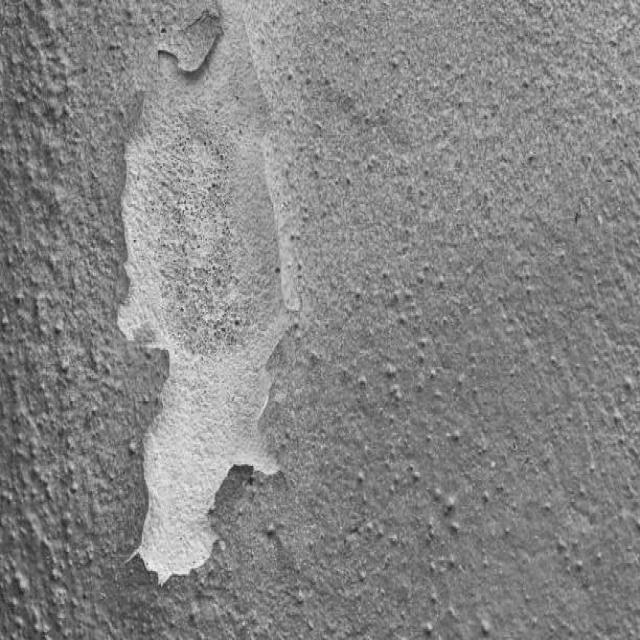peeling paint: (102, 0, 318, 604)
